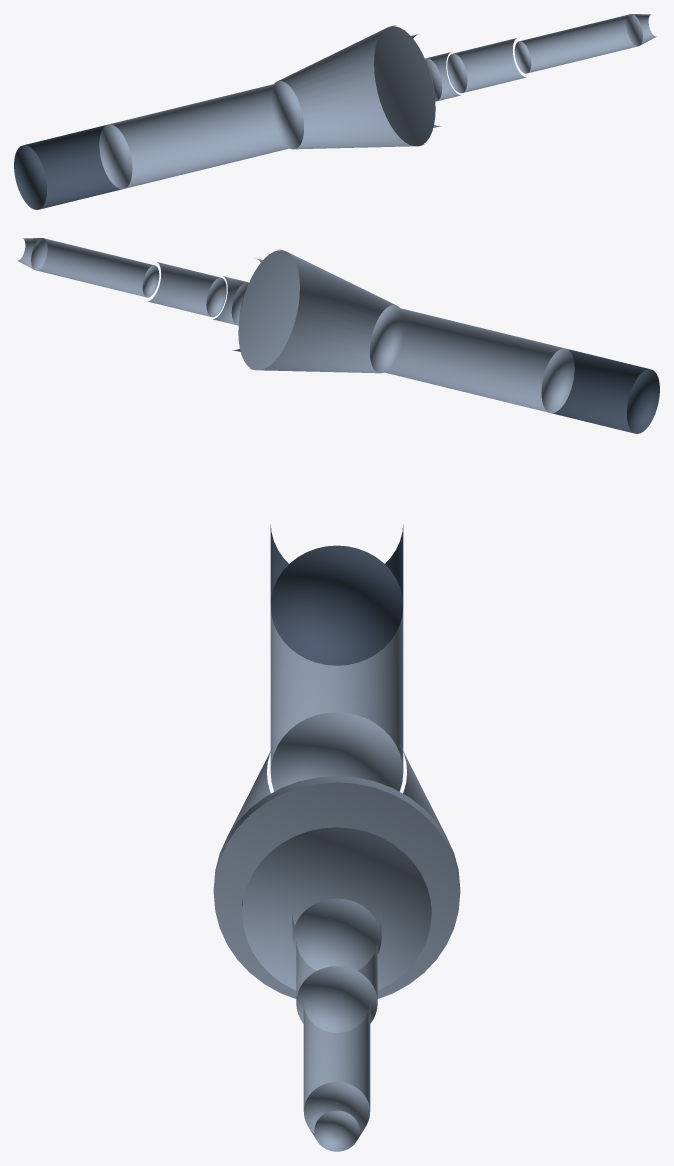
File: modelo.glb
3 views of the same model, one above another, from view 1: azimuth 30°, elevation 25°; view 2: azimuth 150°, elevation 25°; view 3: azimuth 270°, elevation 25° (orthographic). The views are drawn at different scales.
Bounding box in the file's own units: 38 × 6.5 × 6.5.
